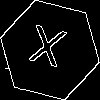X: (25, 25, 68, 77)
